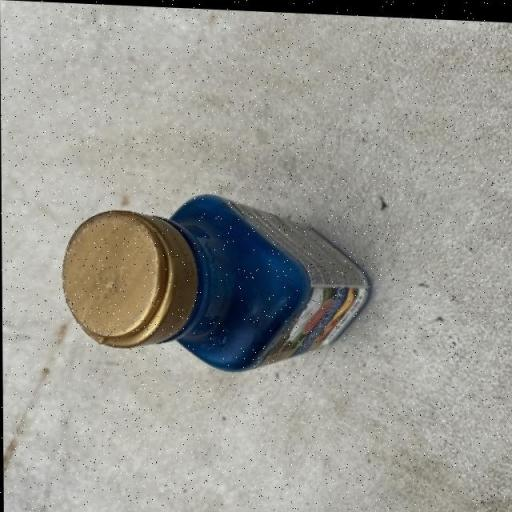plastic: (60, 185, 370, 376)
